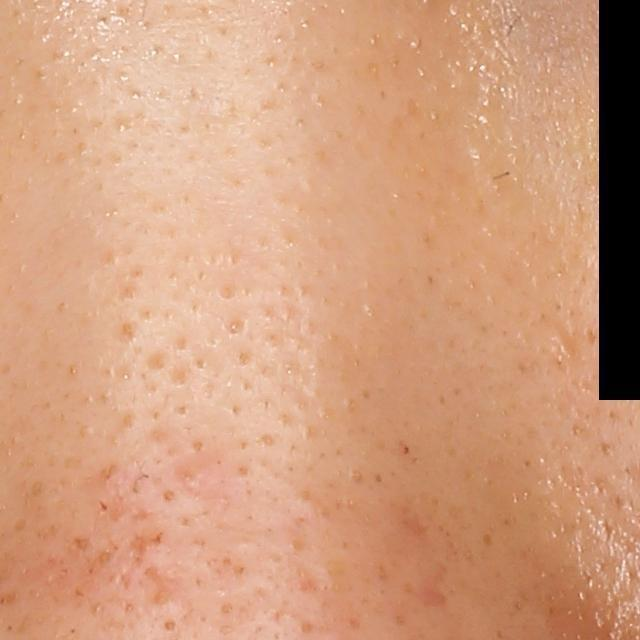atrophic_scar: (118, 530, 166, 590), (146, 563, 182, 604)
comedo: (158, 609, 182, 637), (223, 312, 247, 339), (158, 484, 179, 507)
